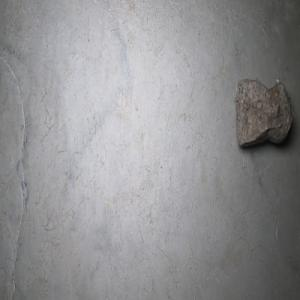Rock: (234, 77, 293, 148)
